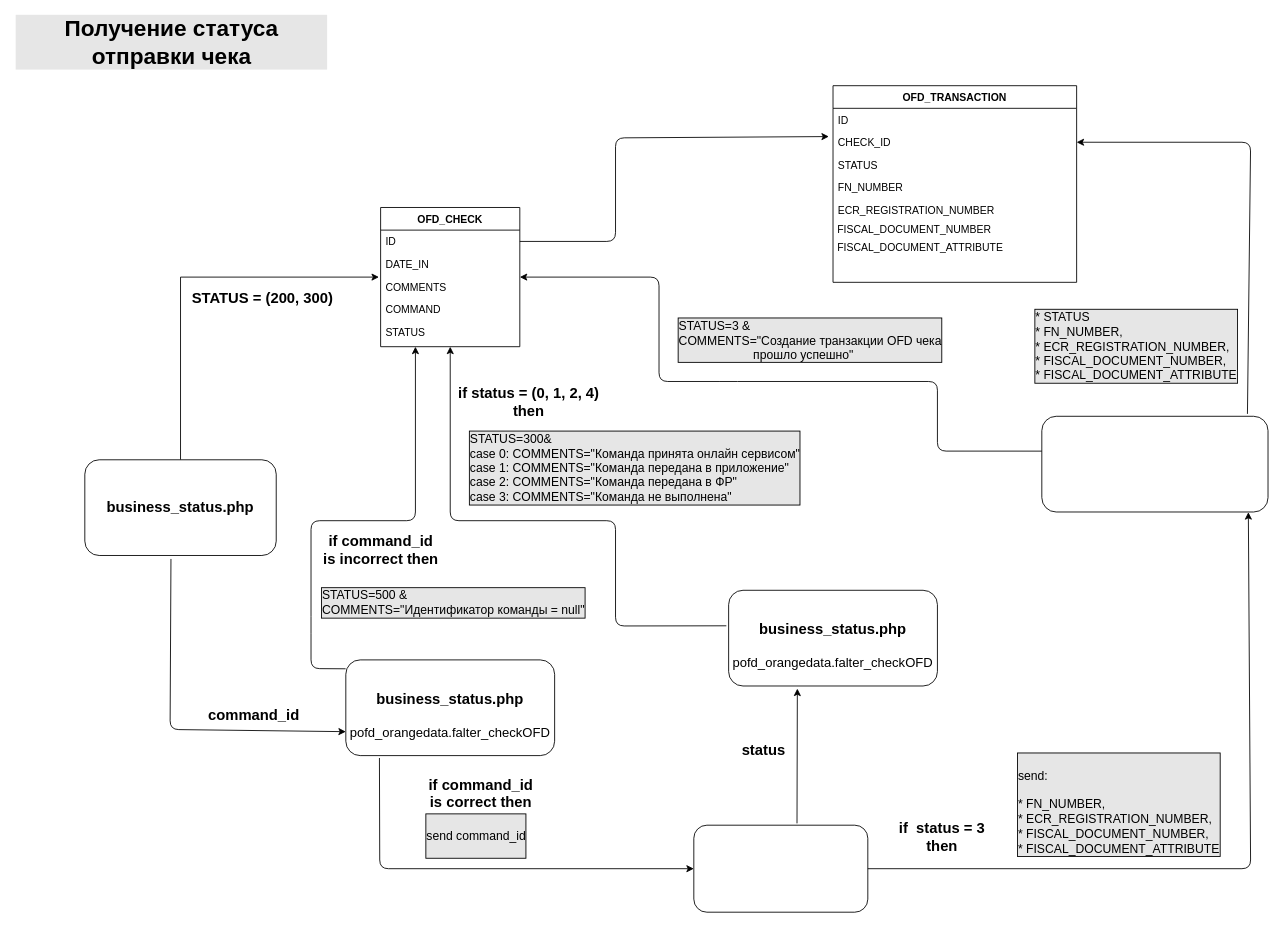
This 1283x927 diagram has some shape labels left out. Each missing label, with the centre of its shape:
"business_status.php pofd_orangedata.fcreate_transaction" goes at [1154,463].
"ЛК business.ru" goes at [780,868].
